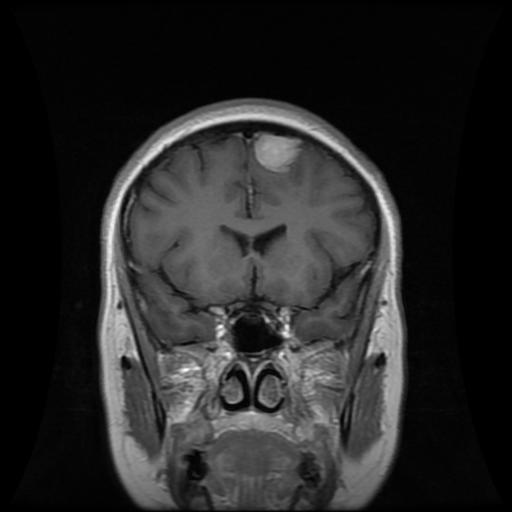Menigiomia_tumour: (254, 134, 301, 170)
